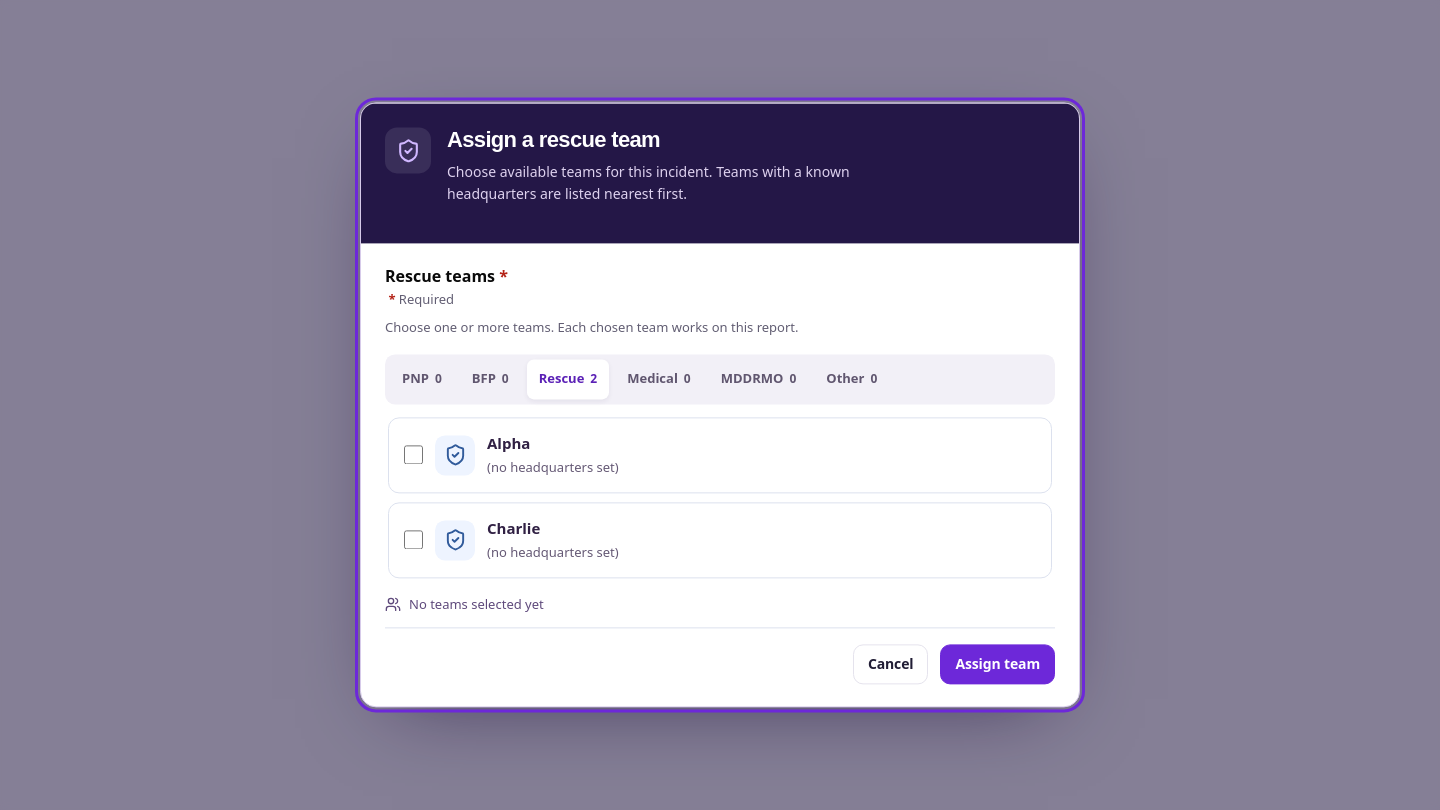
Scenario: AssignTeamDialog › says you can't assign a team with no members
Click the checkbox labelled "Alpha (no headquarters set)". click: (414, 455)
box: top-left (404, 446), bottom-right (423, 465)
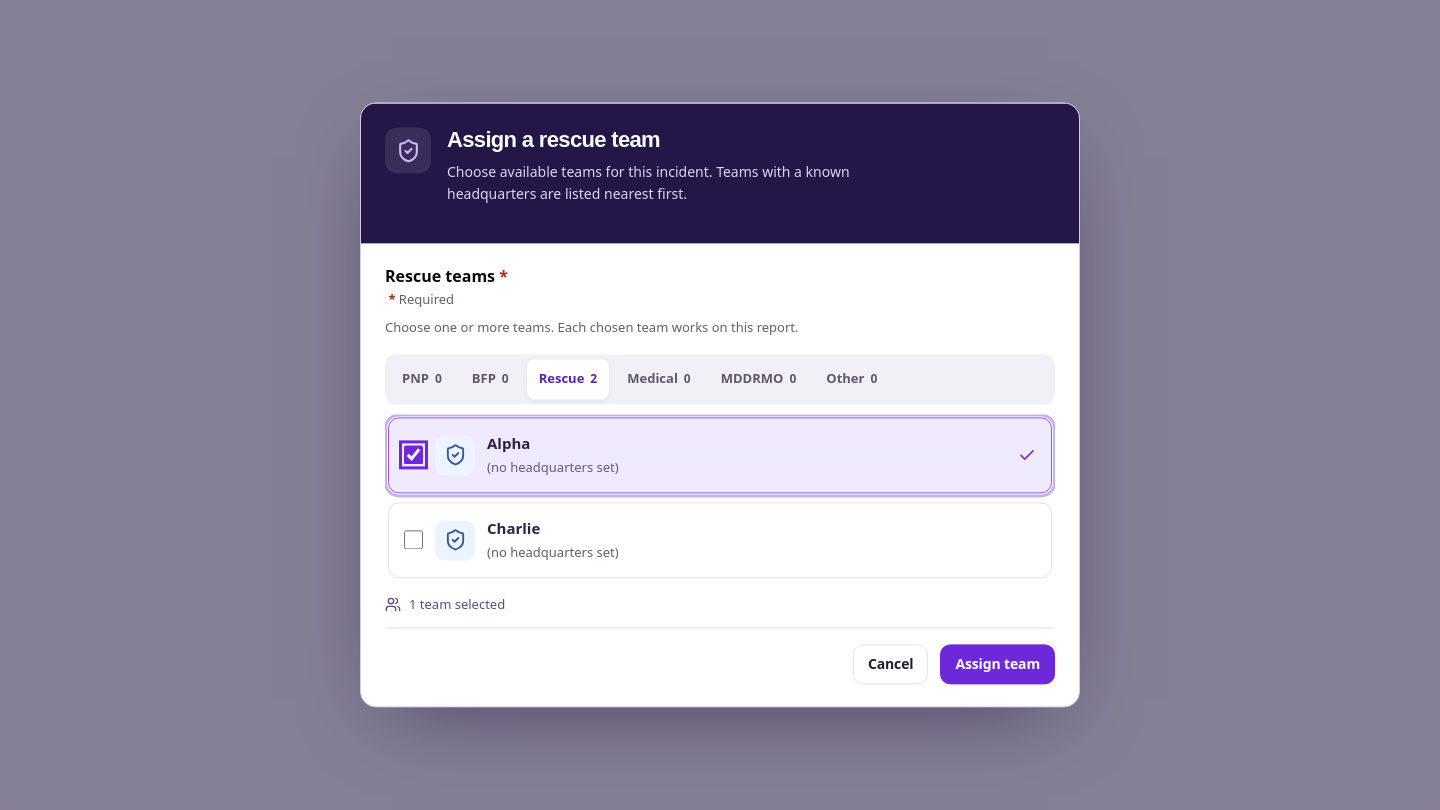
Click the button "Assign team". click: (998, 665)
box: top-left (940, 645), bottom-right (1055, 685)
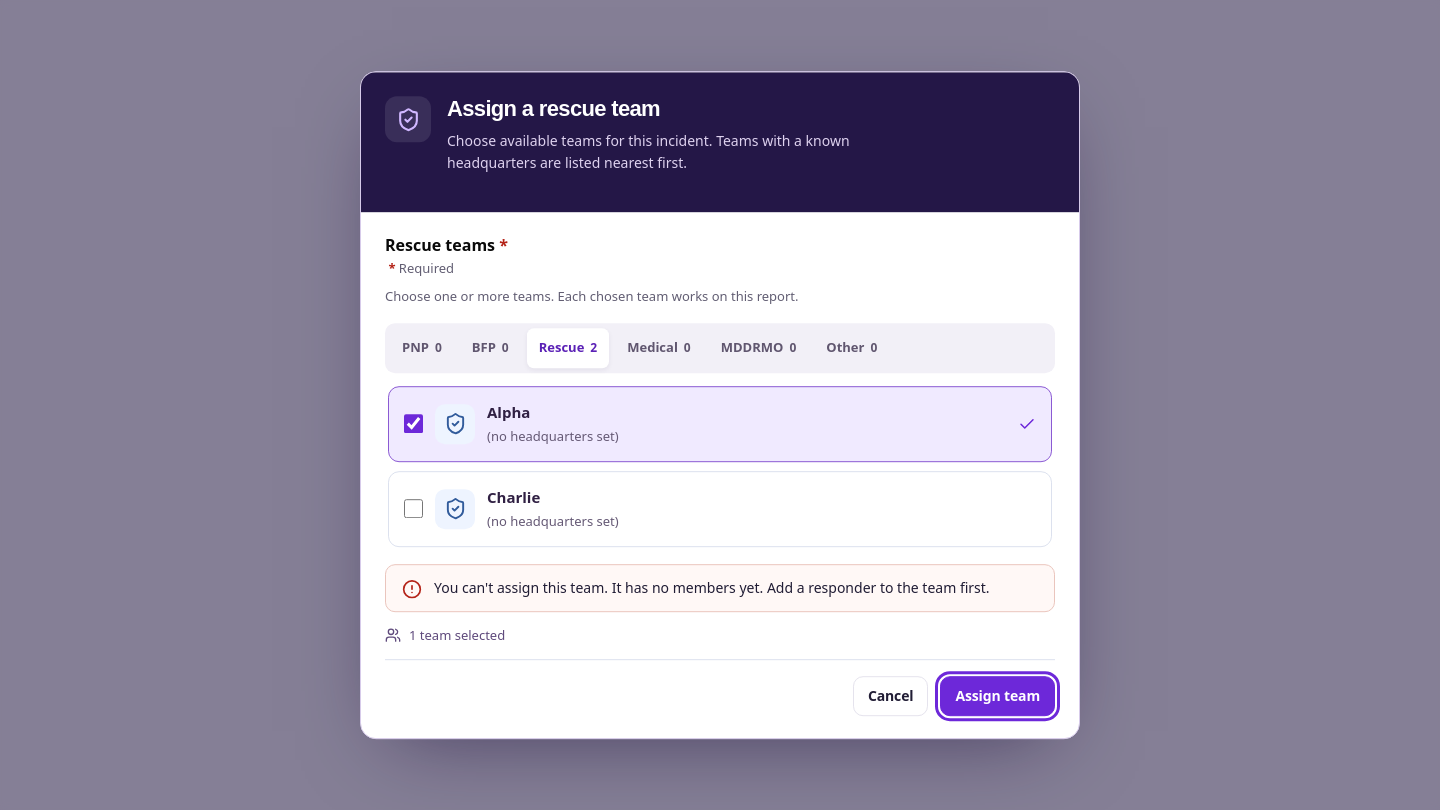
Expected: the 1st message shows "You can't assign this team. It has no members yet.", top-left (434, 578), bottom-right (990, 597)
